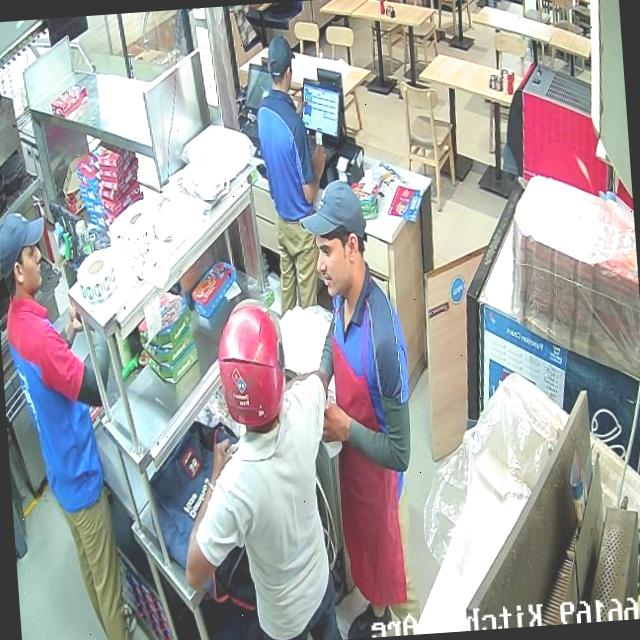helmet: (218, 298, 286, 426)
no_helmet: (300, 179, 365, 320), (0, 210, 45, 298), (266, 34, 295, 94)
